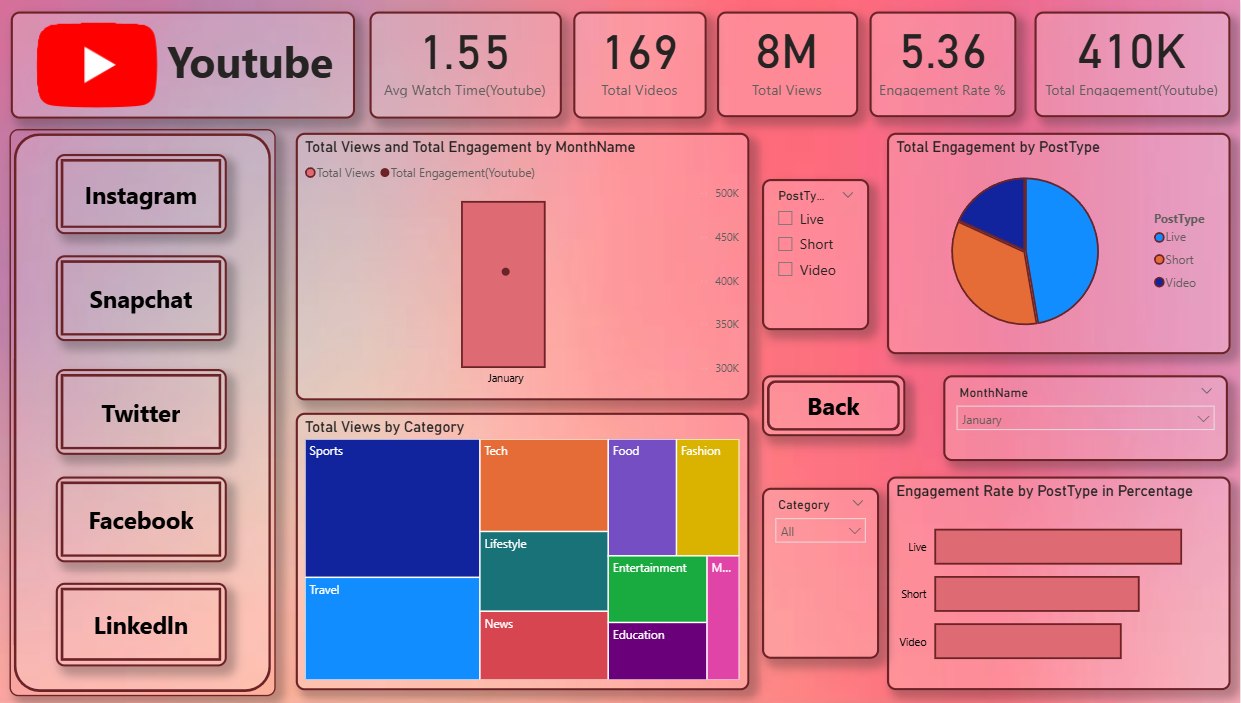

The dashboard page shown, as its layout file describes it:
{"tool":"powerbi","page":{"name":"Youtube","canvas":[1400,800],"ordinal":5},"visuals":[{"type":"textbox","box":[15.1,13.7,387.7,120.5],"z":0},{"type":"image","box":[15.1,13.7,197.3,119.2],"z":1000},{"type":"card","fields":{"Values":["YouTube_Data.Avg Watch Time(Youtube)"]},"box":[419.2,13.7,216.4,120.5],"z":2000},{"type":"card","fields":{"Values":["YouTube_Data.Engagement Rate %"]},"box":[983.6,13.7,165.8,119.2],"z":3000},{"type":"card","fields":{"Values":["YouTube_Data.Total Engagement(Youtube)"]},"box":[1168.5,13.7,220.5,119.2],"z":4000},{"type":"card","fields":{"Values":["YouTube_Data.Total Videos"]},"box":[649.3,13.7,150.7,120.5],"z":5000},{"type":"card","fields":{"Values":["YouTube_Data.Total Views"]},"box":[811,13.7,158.9,119.2],"z":6000},{"type":"lineStackedColumnComboChart","title":"Total Views and Total Engagement by MonthName","fields":{"Category":["YouTube_Data.MonthName"],"Y":["YouTube_Data.Total Views"],"Y2":["YouTube_Data.Total Engagement(Youtube)"]},"box":[336.6,150.7,511.3,301.4],"z":7000},{"type":"pieChart","title":"Total Engagement by PostType","fields":{"Category":["YouTube_Data.PostType"],"Y":["YouTube_Data.Total Engagement(Youtube)"]},"box":[1002.8,150.7,387.3,249.3],"z":8000},{"type":"barChart","title":"Engagement Rate  by PostType in Percentage","fields":{"Category":["YouTube_Data.PostType"],"Y":["YouTube_Data.Engagement Rate %"]},"box":[1002.8,538,387.3,240.8],"z":9000},{"type":"treemap","fields":{"Group":["YouTube_Data.Category"],"Values":["YouTube_Data.Total Views"]},"box":[336.6,466.2,511.3,312.7],"z":10000},{"type":"slicer","fields":{"Values":["YouTube_Data.MonthName"]},"box":[1066.2,423.9,321.1,97.2],"z":11000},{"type":"slicer","fields":{"Values":["YouTube_Data.PostType"]},"box":[862,202.8,121.1,170.4],"z":12000},{"type":"slicer","fields":{"Values":["YouTube_Data.Category"]},"box":[862,550.7,132.4,193],"z":13000},{"type":"actionButton","box":[862,423.9,162,69],"z":14000},{"type":"shape","box":[14.1,146.5,300,639.4],"z":15000},{"type":"actionButton","box":[66.2,288.7,193,97.2],"z":16000},{"type":"actionButton","box":[66.2,416.9,193,97.2],"z":17000},{"type":"actionButton","box":[66.2,538,193,97.2],"z":18000},{"type":"actionButton","box":[66.2,657.7,193,94.4],"z":19000},{"type":"actionButton","box":[66.2,174.6,193,90.1],"z":20000}]}

Visuals, with their boxes in screenshot pixels (x1, y1, x2, y2), scaled from the page's 1400x800 canvas onto the 1241x703 screenshot:
textbox: BBox(13, 12, 357, 118)
image: BBox(13, 12, 188, 117)
card - YouTube_Data.Avg Watch Time(Youtube): BBox(372, 12, 563, 118)
card - YouTube_Data.Engagement Rate %: BBox(872, 12, 1019, 117)
card - YouTube_Data.Total Engagement(Youtube): BBox(1036, 12, 1231, 117)
card - YouTube_Data.Total Videos: BBox(576, 12, 709, 118)
card - YouTube_Data.Total Views: BBox(719, 12, 860, 117)
"Total Views and Total Engagement by MonthName" lineStackedColumnComboChart: BBox(298, 132, 752, 397)
"Total Engagement by PostType" pieChart: BBox(889, 132, 1232, 352)
"Engagement Rate  by PostType in Percentage" barChart: BBox(889, 473, 1232, 684)
treemap - YouTube_Data.Category x YouTube_Data.Total Views: BBox(298, 410, 752, 684)
slicer - YouTube_Data.MonthName: BBox(945, 373, 1230, 458)
slicer - YouTube_Data.PostType: BBox(764, 178, 871, 328)
slicer - YouTube_Data.Category: BBox(764, 484, 881, 654)
actionButton: BBox(764, 373, 908, 433)
shape: BBox(12, 129, 278, 691)
actionButton: BBox(59, 254, 230, 339)
actionButton: BBox(59, 366, 230, 452)
actionButton: BBox(59, 473, 230, 558)
actionButton: BBox(59, 578, 230, 661)
actionButton: BBox(59, 153, 230, 233)
